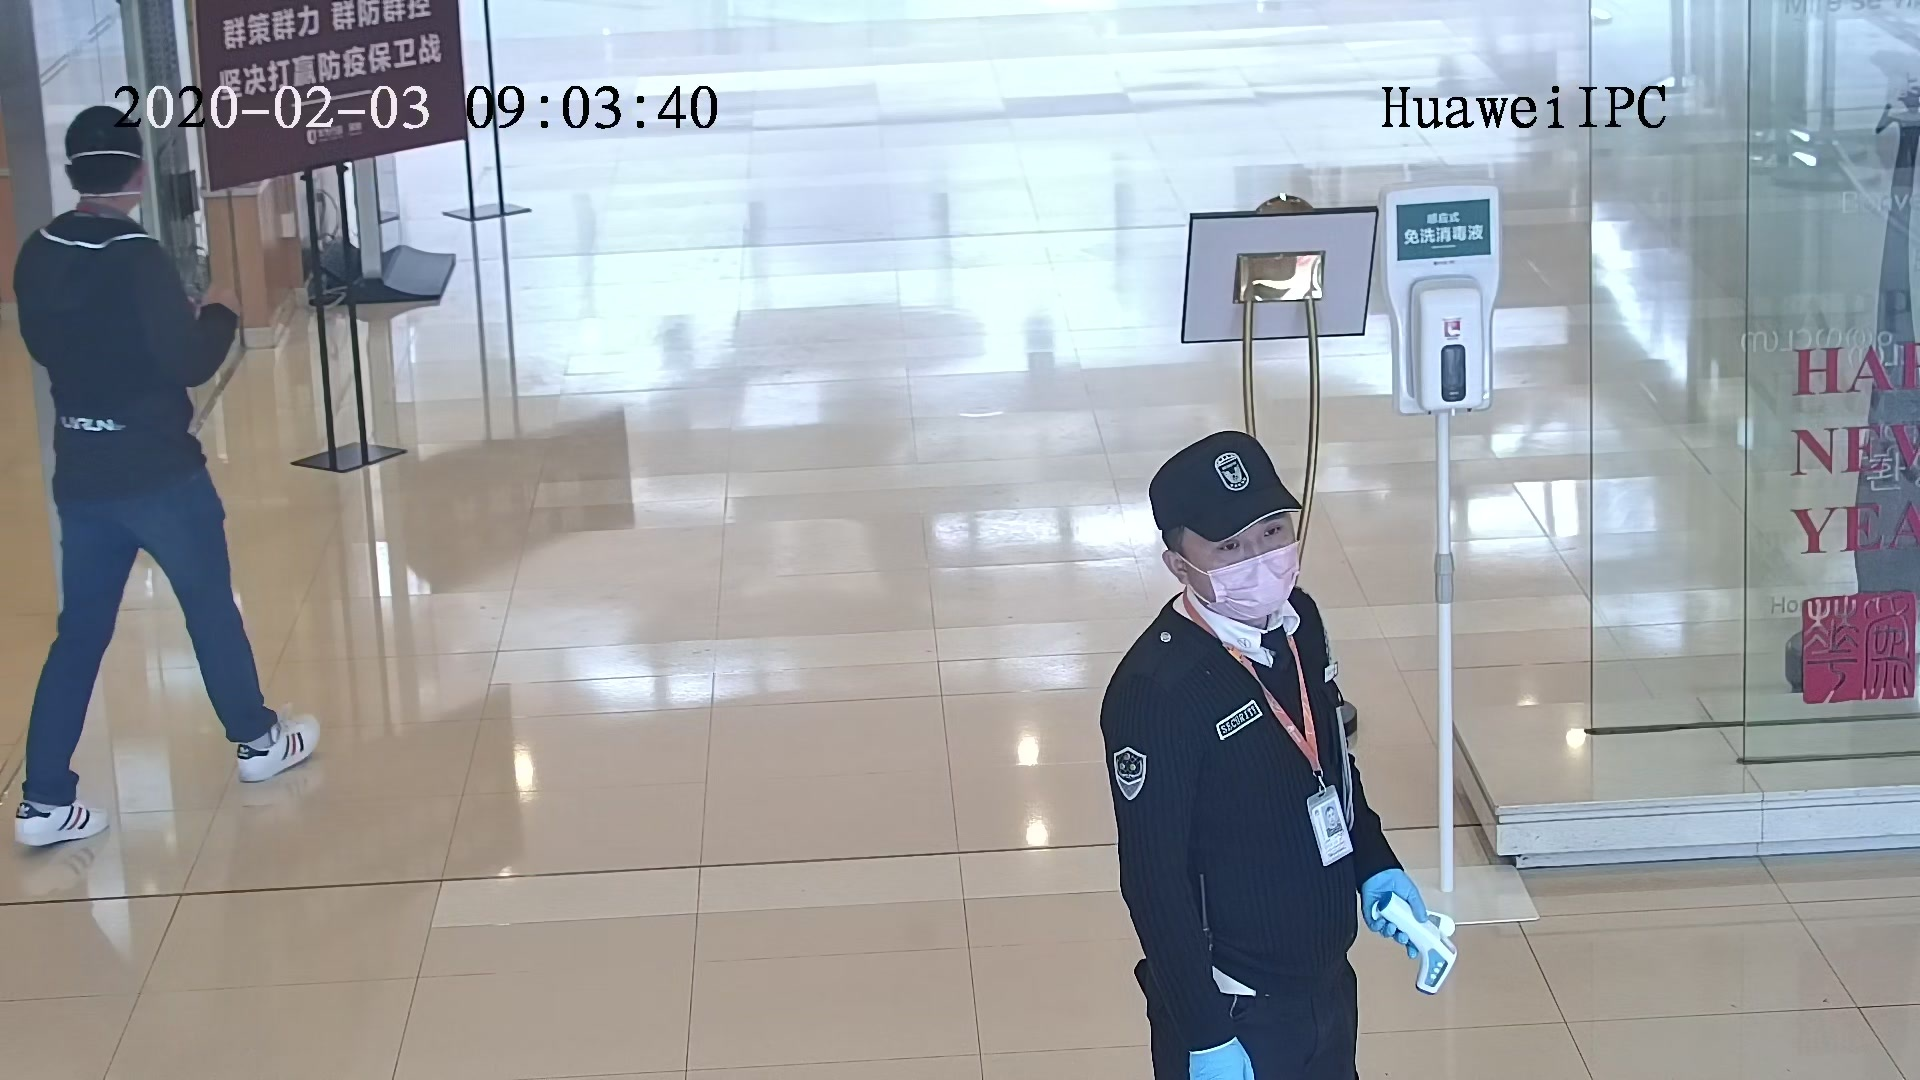face: (1190, 522, 1305, 620)
mask: (1202, 551, 1305, 622)
person: (1094, 425, 1353, 720), (6, 118, 190, 309)
